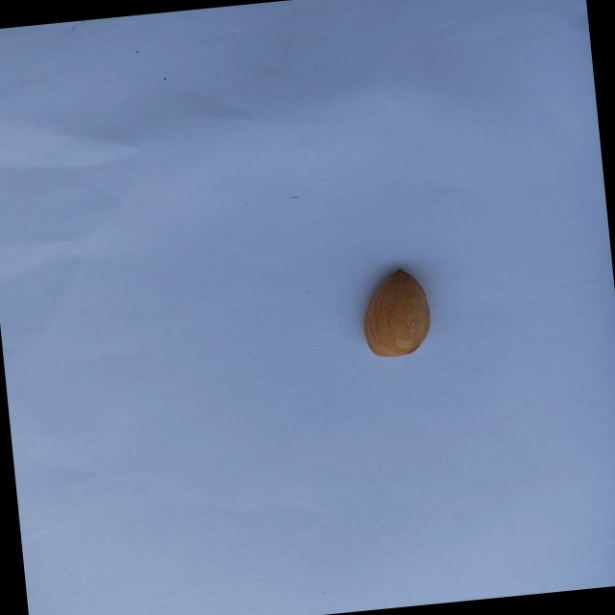grade2: (352, 264, 437, 363)
